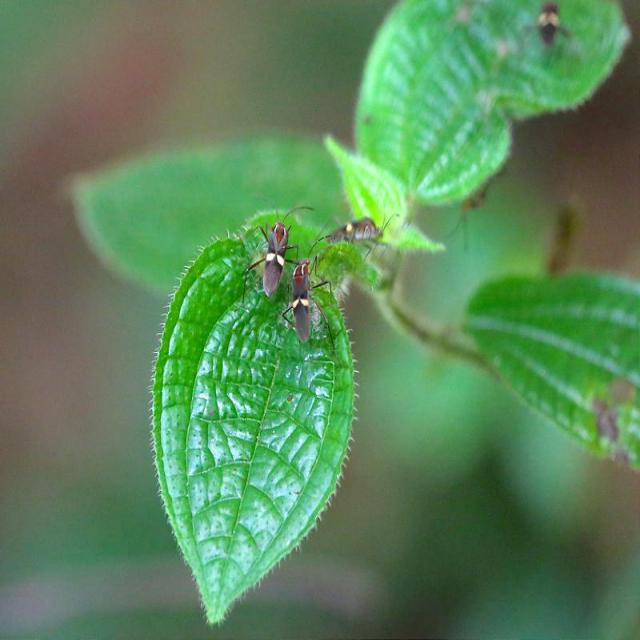Miridae-Adult-: (282, 241, 340, 355), (243, 197, 292, 296)
